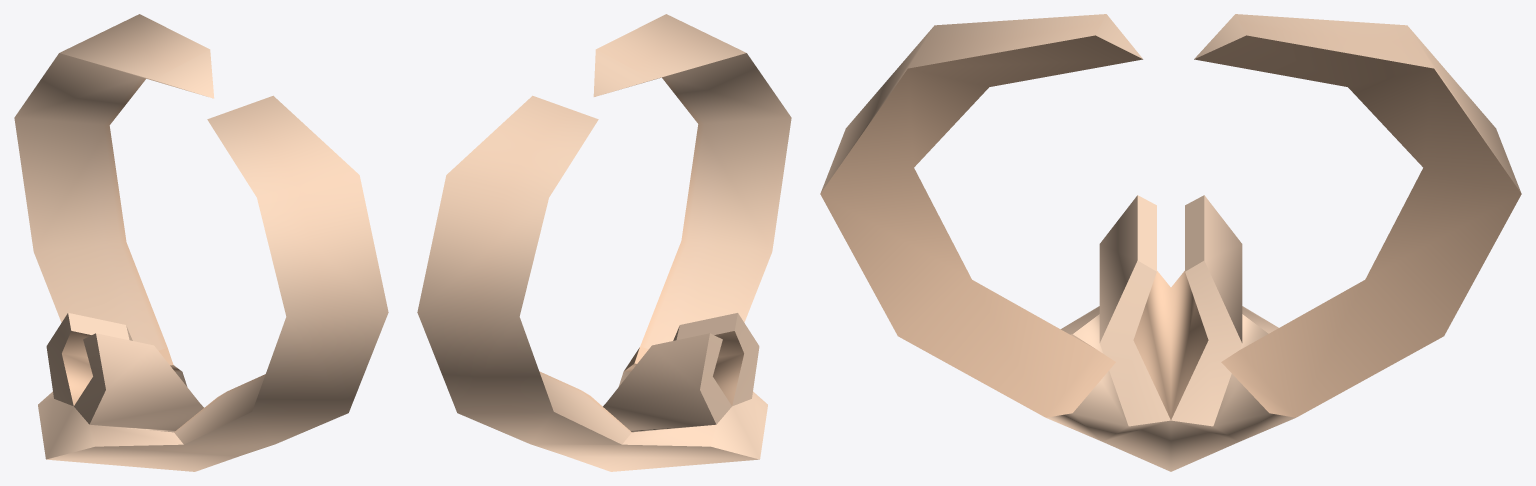
The model's file is Bone_3_color_2.FBX.
3 views of the same model, side by side, from view 1: azimuth 30°, elevation 25°; view 2: azimuth 150°, elevation 25°; view 3: azimuth 270°, elevation 25° (orthographic). The views are drawn at different scales.
Parts seen in each view (by area): view 1: Bone; view 2: Bone; view 3: Bone.
Boxes of the visible parts, x1,y1,x2,y2 form: Bone: (14,14,388,471); Bone: (417,14,791,471); Bone: (820,14,1521,471).
Size of the model in its own units: 0.2484 by 0.4521 by 0.6196.
